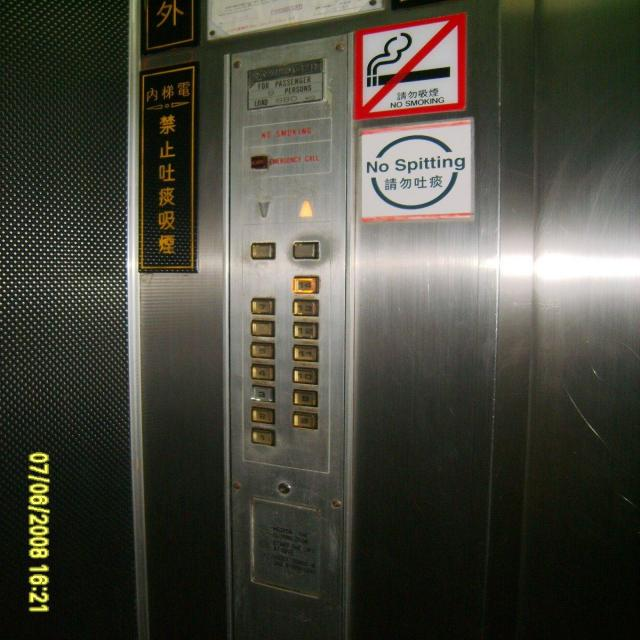1: (250, 426, 276, 446)
10: (290, 366, 320, 384)
11: (291, 344, 319, 362)
12: (291, 321, 320, 340)
13: (291, 298, 319, 317)
14: (290, 276, 320, 293)
2: (250, 406, 274, 424)
3: (250, 384, 276, 402)
4: (249, 362, 276, 381)
5: (249, 341, 276, 360)
6: (249, 319, 276, 337)
7: (249, 296, 276, 316)
8: (292, 410, 318, 430)
9: (292, 389, 318, 406)
empty: (291, 241, 320, 259), (249, 241, 276, 260), (250, 156, 268, 169)
keyhole: (277, 482, 290, 494)
